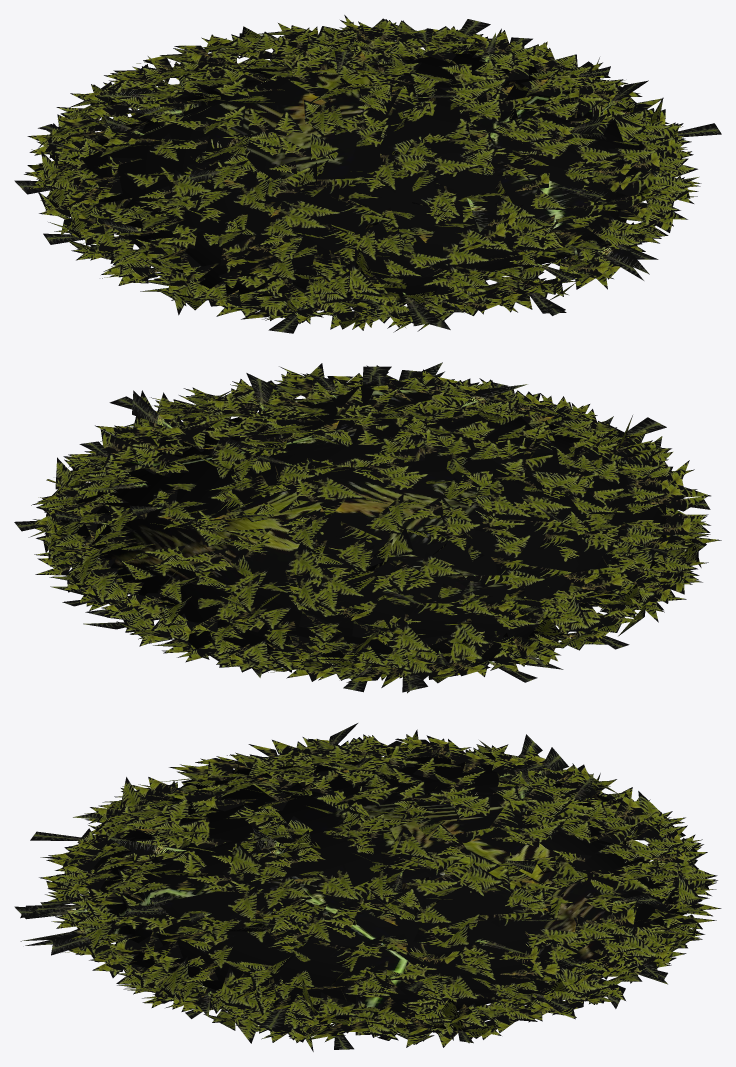
The model's file is moss_clump.glb.
3 views of the same model, one above another, from view 1: azimuth 30°, elevation 25°; view 2: azimuth 150°, elevation 25°; view 3: azimuth 270°, elevation 25° (orthographic). The views are drawn at different scales.
Visible parts, largest first — view 1: moss_01_geometry_nodes_w; view 2: moss_01_geometry_nodes_w; view 3: moss_01_geometry_nodes_w.
Part boxes in pixels (<box>): moss_01_geometry_nodes_w: <box>14,15,721,333</box>; moss_01_geometry_nodes_w: <box>14,362,721,693</box>; moss_01_geometry_nodes_w: <box>14,723,721,1051</box>.
Size of the model in its own units: 0.6451 by 0.1406 by 0.651.
1 material, 1 textured.
